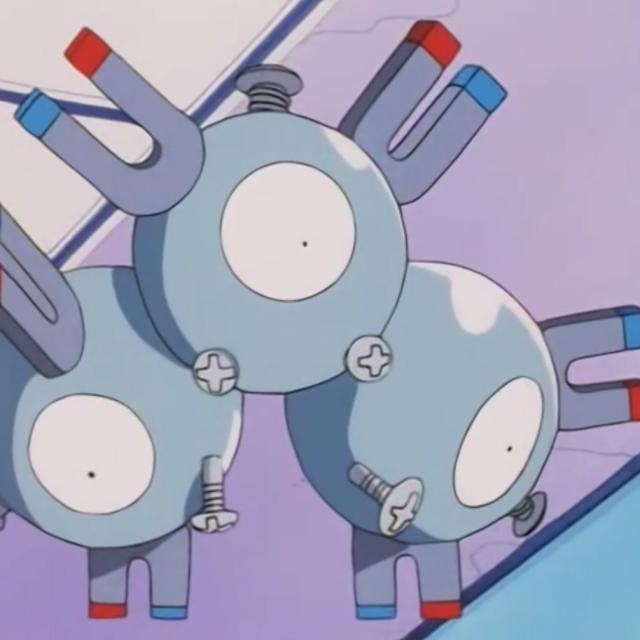Magneton: (1, 42, 562, 614)
